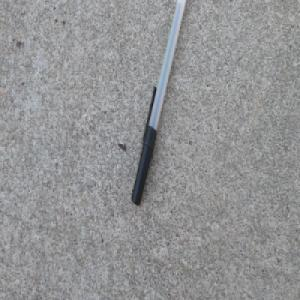Pen: (130, 0, 187, 206)
